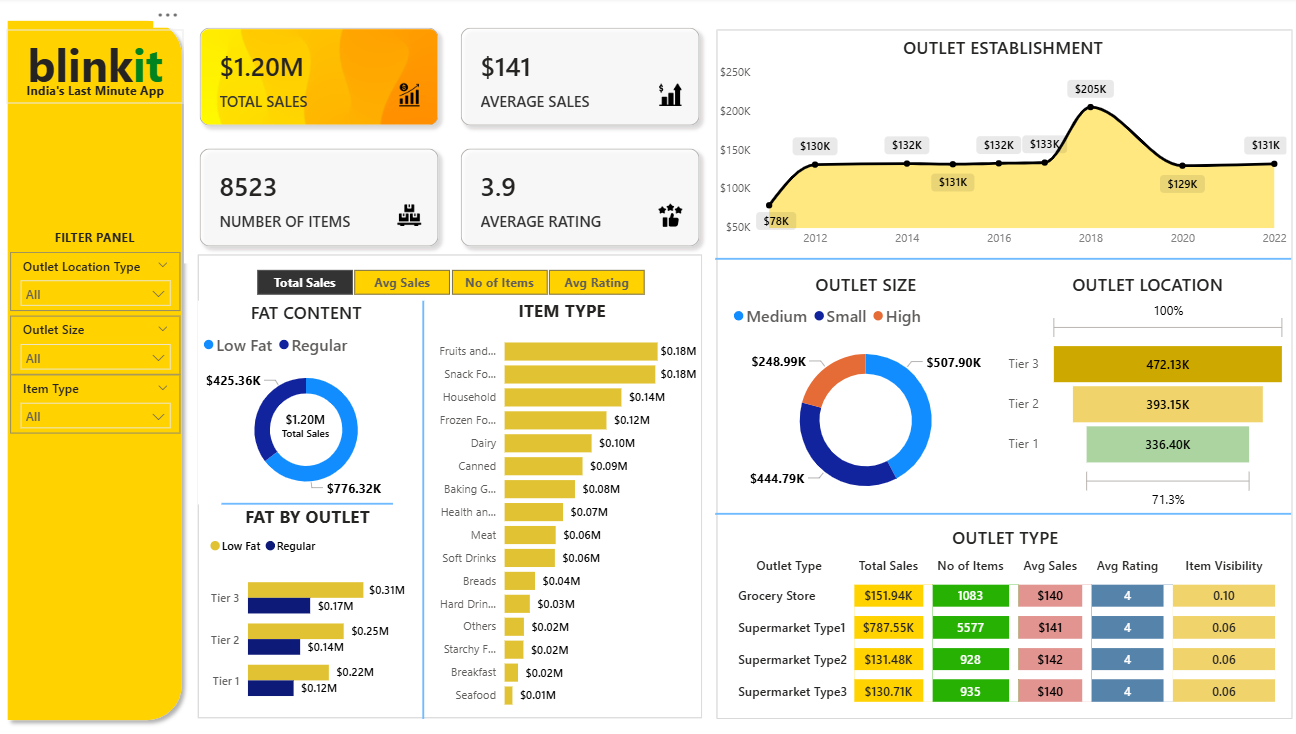

Layout of this report page (visuals, bound fields, positions):
{"tool":"powerbi","page":{"name":"Page 1","canvas":[1400,800],"ordinal":0},"visuals":[{"type":"shape","box":[0,15.9,205,768.5],"z":0},{"type":"textbox","box":[7.9,34.4,190.5,79.4],"z":1000},{"type":"textbox","box":[15.9,86,174.6,27.8],"z":2000},{"type":"cardVisual","fields":{"Data":["BlinkIT Grocery Data.Total Sales","BlinkIT Grocery Data.Avg Sales","BlinkIT Grocery Data.No of Items","BlinkIT Grocery Data.Avg Rating"]},"box":[198.4,15.9,570.1,269.8],"z":3000},{"type":"shape","box":[213,276.5,541,497.4],"z":4000},{"type":"donutChart","title":"FAT CONTENT","fields":{"Y":["BlinkIT Grocery Data.Total Sales"],"Category":["BlinkIT Grocery Data.Item Fat Content"]},"box":[213,325.4,232.8,218.3],"z":5000},{"type":"slicer","fields":{"Values":["Metrics.Metrics"]},"box":[251.3,285.7,465.6,39.7],"z":6000},{"type":"cardVisual","fields":{"Data":["BlinkIT Grocery Data.Total Sales"]},"box":[284.4,425.9,89.9,59.5],"z":7000},{"type":"clusteredBarChart","title":"FAT BY OUTLET","fields":{"Y":["BlinkIT Grocery Data.Total Sales"],"Category":["BlinkIT Grocery Data.Outlet Location Type"],"Series":["BlinkIT Grocery Data.Item Fat Content"]},"box":[220.9,543.7,219.6,230.2],"z":8000},{"type":"shape","box":[238.1,533.1,183.9,19.8],"z":9000},{"type":"shape","box":[445.8,325.4,17.2,448.4],"z":10000},{"type":"barChart","title":"ITEM TYPE","fields":{"Y":["BlinkIT Grocery Data.Total Sales"],"Category":["BlinkIT Grocery Data.Item Type"]},"box":[455,322.8,298.9,451.1],"z":11000},{"type":"shape","box":[769.8,34.4,617.7,739.4],"z":12000},{"type":"lineChart","title":"OUTLET ESTABLISHMENT","fields":{"Y":["BlinkIT Grocery Data.Total Sales"],"Category":["BlinkIT Grocery Data.Outlet Establishment Year"]},"box":[768.5,41,617.7,235.5],"z":13000},{"type":"shape","box":[768.5,276.5,617.7,9.3],"z":14000},{"type":"donutChart","title":"OUTLET SIZE","fields":{"Y":["BlinkIT Grocery Data.Total Sales"],"Category":["BlinkIT Grocery Data.Outlet Size"]},"box":[781.8,295,296.3,259.3],"z":15000},{"type":"funnel","title":"OUTLET LOCATION","fields":{"Y":["Sum(BlinkIT Grocery Data.Sales)"],"Category":["BlinkIT Grocery Data.Outlet Location Type"]},"box":[1078,295,308.2,259.3],"z":16000},{"type":"shape","box":[768.5,550.3,617.7,9.3],"z":17000},{"type":"pivotTable","title":"OUTLET TYPE","fields":{"Rows":["BlinkIT Grocery Data.Outlet Type"],"Values":["BlinkIT Grocery Data.Total Sales","BlinkIT Grocery Data.No of Items","BlinkIT Grocery Data.Avg Sales","BlinkIT Grocery Data.Avg Rating","Avg(BlinkIT Grocery Data.Item Visibility)"]},"box":[783.1,567.5,592.6,203.7],"z":18000},{"type":"slicer","fields":{"Values":["BlinkIT Grocery Data.Outlet Location Type"]},"box":[11.9,273.8,182.5,63.5],"z":19000},{"type":"slicer","fields":{"Values":["BlinkIT Grocery Data.Outlet Size"]},"box":[11.9,341.3,182.5,63.5],"z":20000},{"type":"slicer","fields":{"Values":["BlinkIT Grocery Data.Item Type"]},"box":[11.9,404.8,182.5,63.5],"z":21000},{"type":"textbox","box":[50.3,243.4,105.8,30.4],"z":22000}]}

Visuals, with their boxes in screenshot pixels (x1, y1, x2, y2), scaled from the page's 1400x800 canvas onto the 1296x734 screenshot:
shape: <region>0, 15, 190, 720</region>
textbox: <region>7, 32, 184, 104</region>
textbox: <region>15, 79, 176, 104</region>
cardVisual - BlinkIT Grocery Data.Total Sales x BlinkIT Grocery Data.Avg Sales: <region>184, 15, 711, 262</region>
shape: <region>197, 254, 698, 710</region>
"FAT CONTENT" donutChart: <region>197, 299, 413, 499</region>
slicer - Metrics.Metrics: <region>233, 262, 664, 299</region>
cardVisual - BlinkIT Grocery Data.Total Sales: <region>263, 391, 346, 445</region>
"FAT BY OUTLET" clusteredBarChart: <region>204, 499, 408, 710</region>
shape: <region>220, 489, 391, 507</region>
shape: <region>413, 299, 429, 710</region>
"ITEM TYPE" barChart: <region>421, 296, 698, 710</region>
shape: <region>713, 32, 1284, 710</region>
"OUTLET ESTABLISHMENT" lineChart: <region>711, 38, 1283, 254</region>
shape: <region>711, 254, 1283, 262</region>
"OUTLET SIZE" donutChart: <region>724, 271, 998, 509</region>
"OUTLET LOCATION" funnel: <region>998, 271, 1283, 509</region>
shape: <region>711, 505, 1283, 513</region>
"OUTLET TYPE" pivotTable: <region>725, 521, 1274, 708</region>
slicer - BlinkIT Grocery Data.Outlet Location Type: <region>11, 251, 180, 309</region>
slicer - BlinkIT Grocery Data.Outlet Size: <region>11, 313, 180, 371</region>
slicer - BlinkIT Grocery Data.Item Type: <region>11, 371, 180, 430</region>
textbox: <region>47, 223, 145, 251</region>
